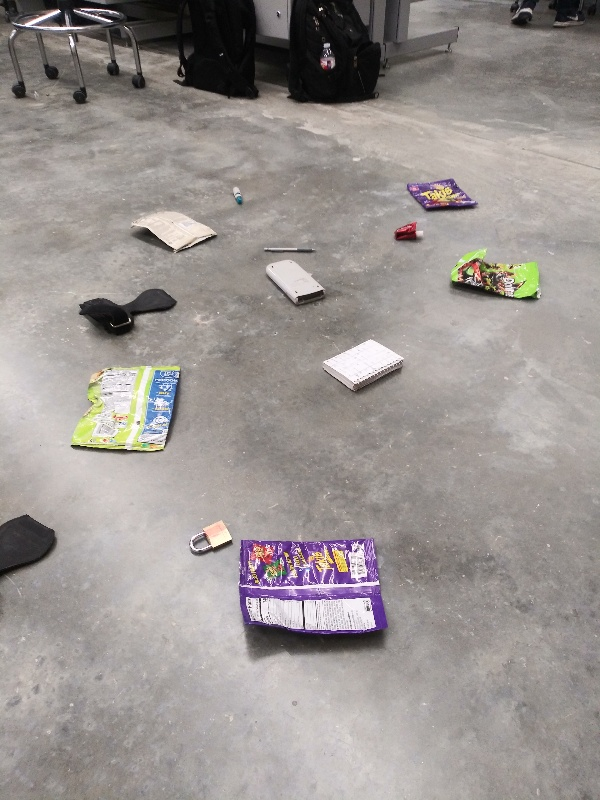bag: (227, 528, 394, 641), (68, 359, 186, 455), (444, 245, 547, 306), (125, 206, 222, 256), (401, 176, 486, 215)
bottle: (317, 38, 338, 73)
